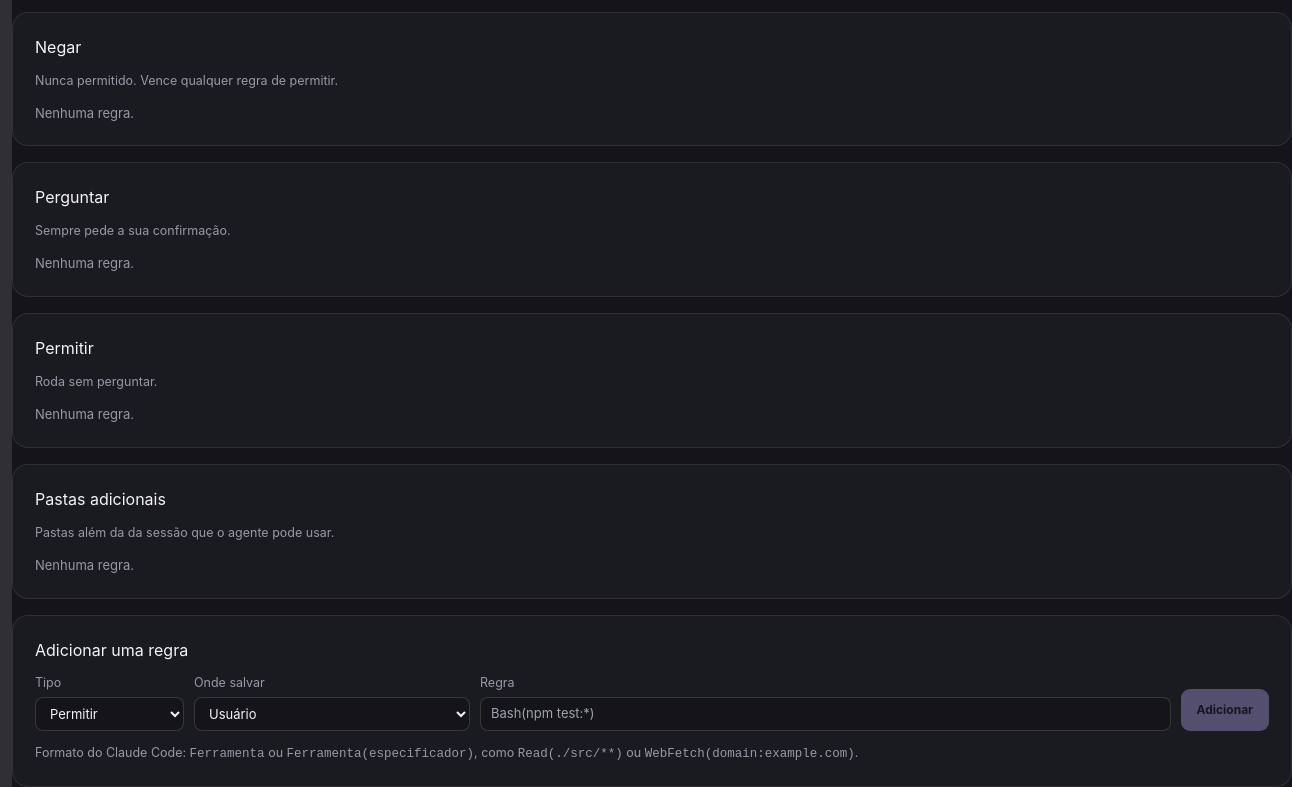
Test case: the permissions editor › adds a rule to the chosen layer and lists the server’s problems when it refuses
(page scrolled)
Type "Bash(" into the field labelled "Regra" at (825, 714), box [480,697,1170,731]
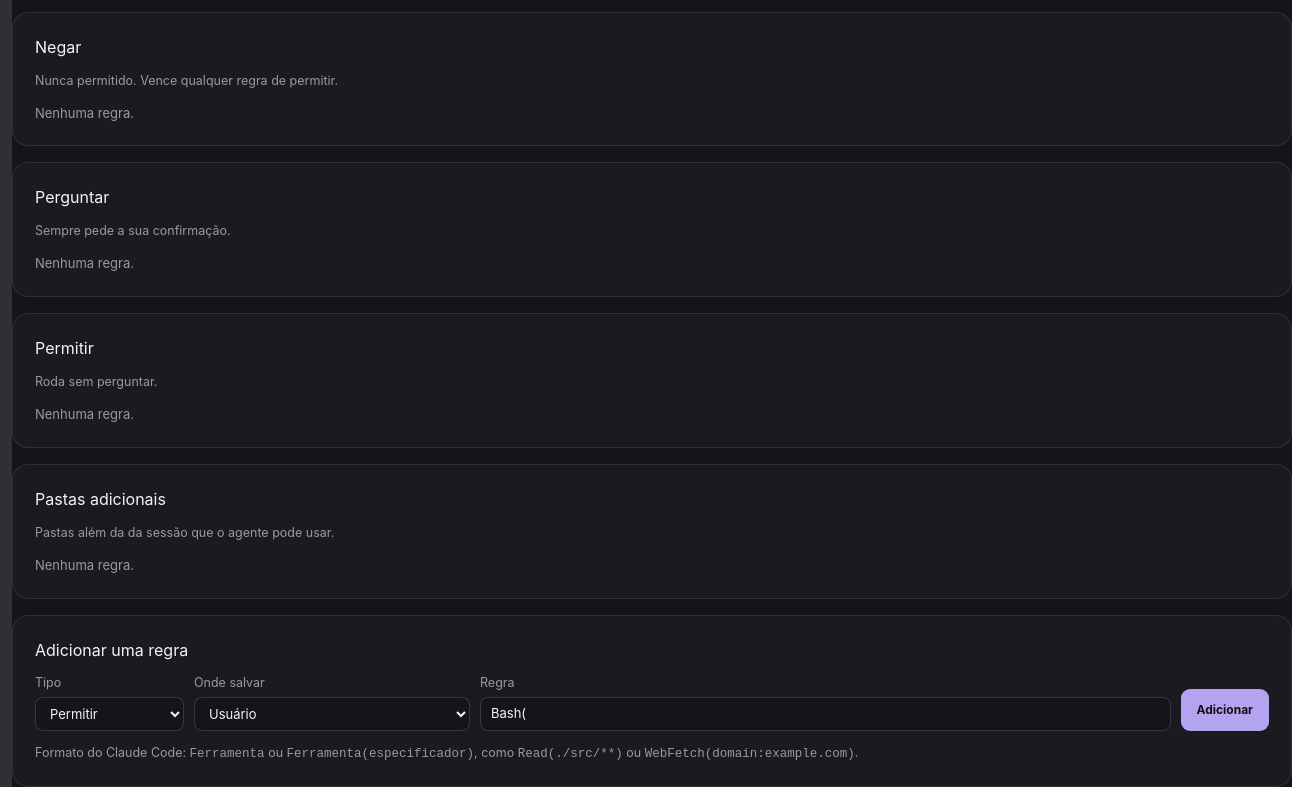
Select "Local (só você, nesta pasta)" in the dropdown labelled "Onde salvar" at (332, 714), box [194,697,470,731]
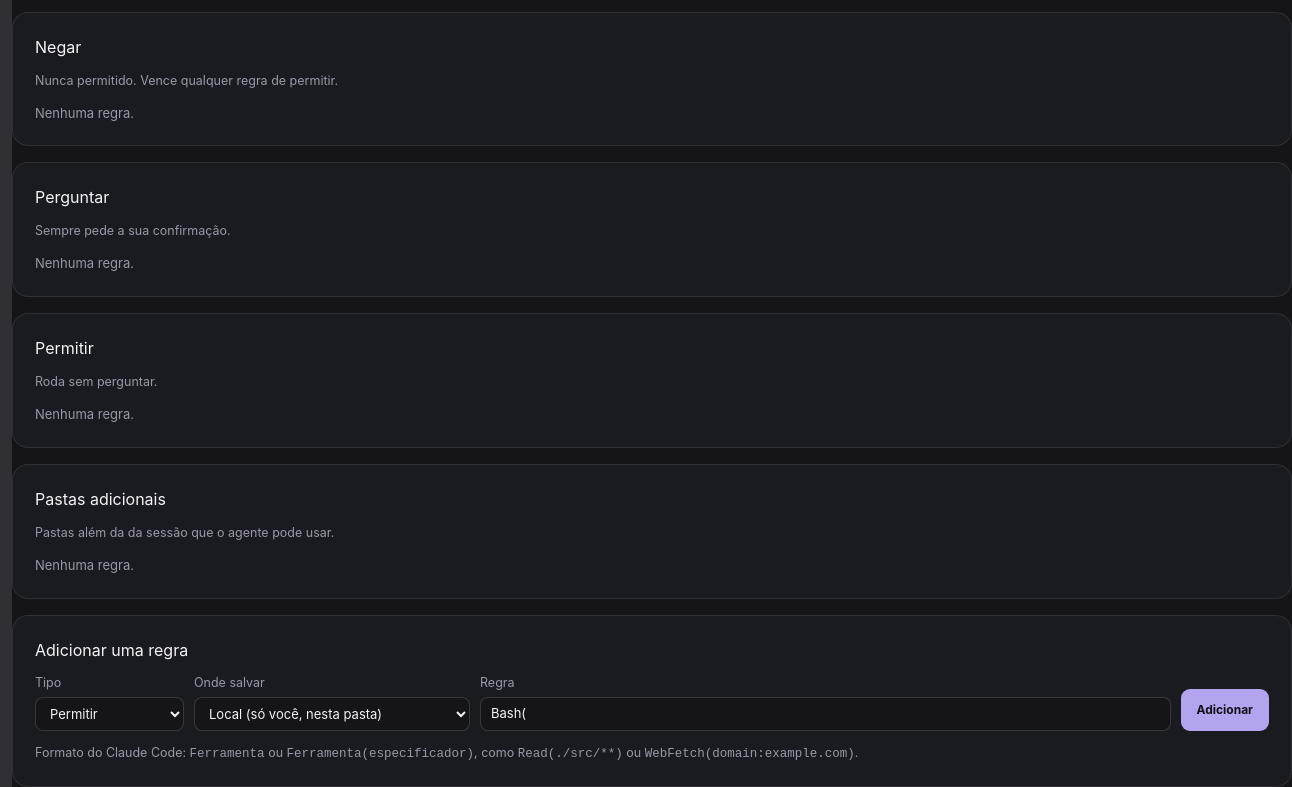
Click the button "Adicionar" at (1225, 710), box [1180,689,1269,731]
(page scrolled)
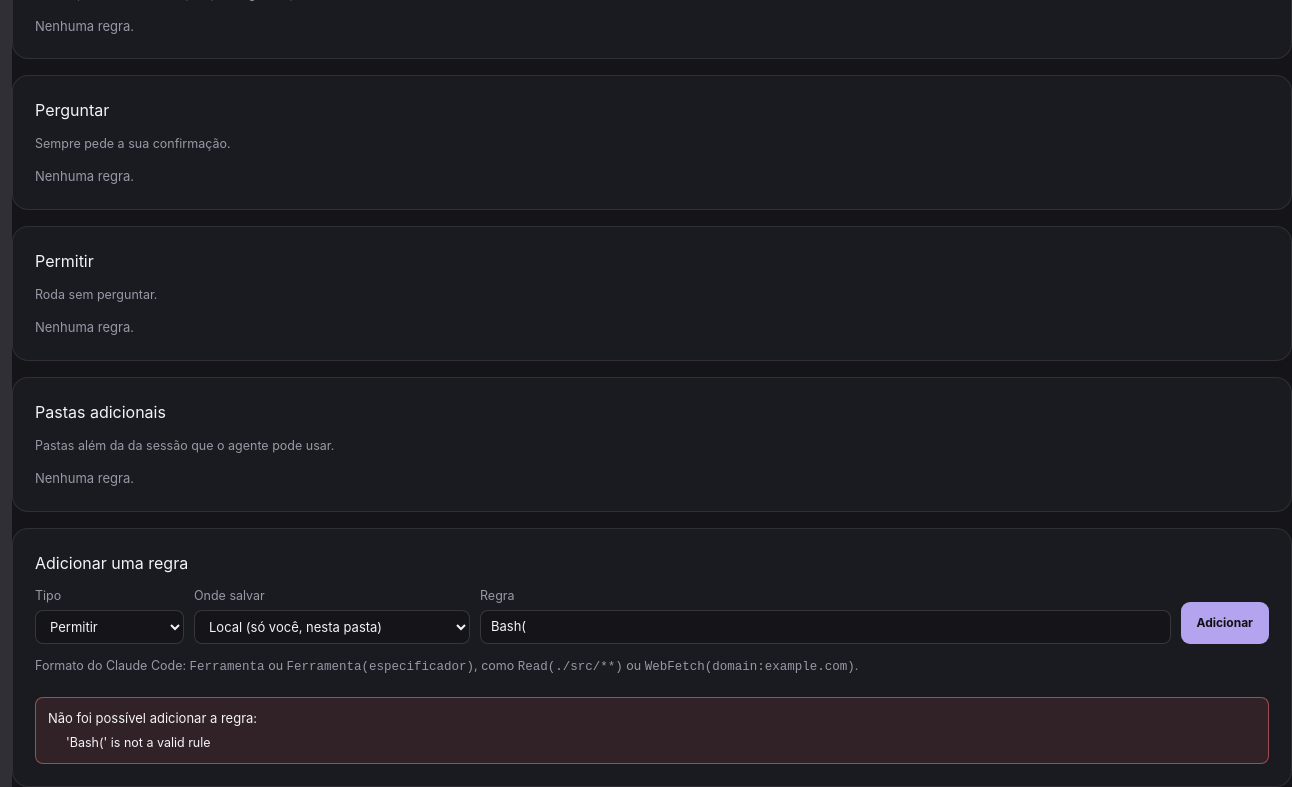
Check: the list item "'Bash(' is not a valid rule" is shown, box [66,735,210,750]
